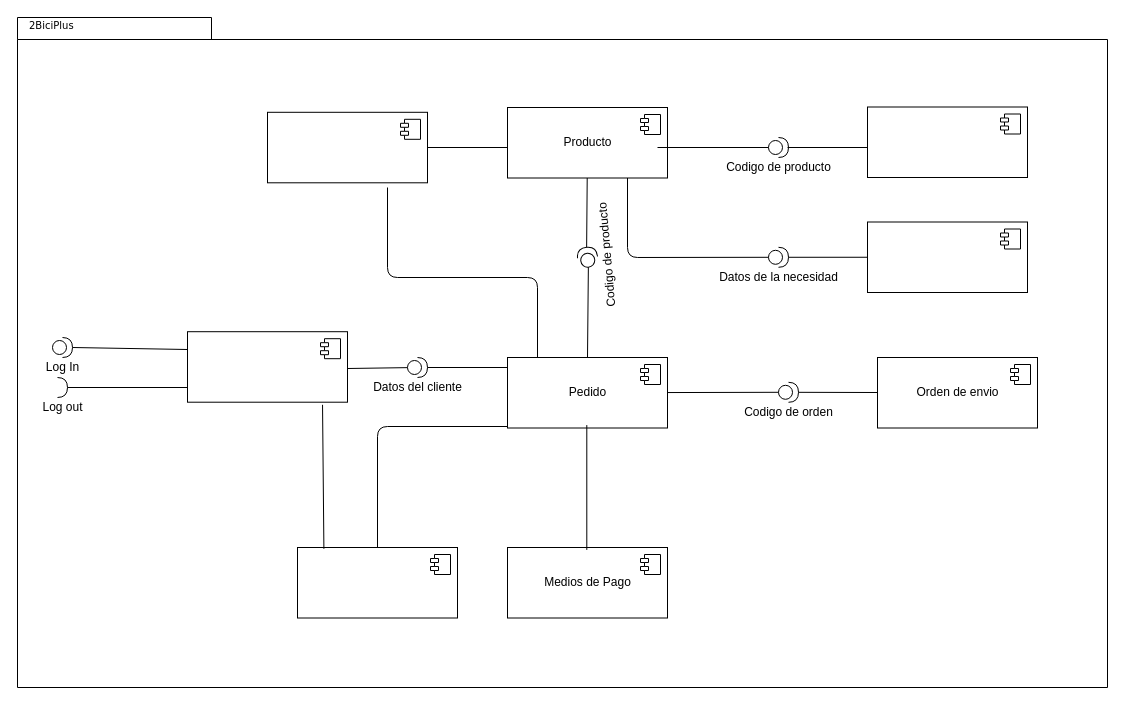
This 1125x705 diagram has some shape labels left out. The shapes that lost their labels are listed below. From the top down, each one's box as (x1, y1, x2, y2) in pixels, then its label:
(266, 111, 428, 183): Personalización
(866, 106, 1028, 178): Comparación de productos
(866, 221, 1028, 292): Asesoria
(186, 331, 348, 402): Cliente
(296, 546, 458, 618): Factura
